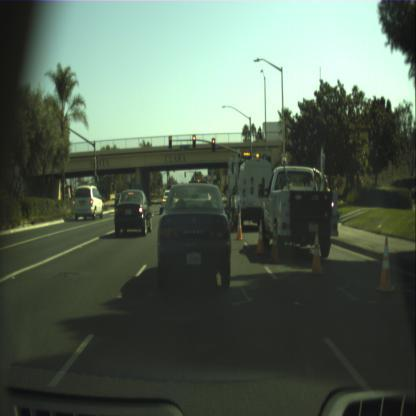Green: (218, 176, 220, 184)
Red: (192, 134, 196, 148), (168, 136, 172, 148), (212, 137, 215, 151)
off: (184, 172, 186, 176)
